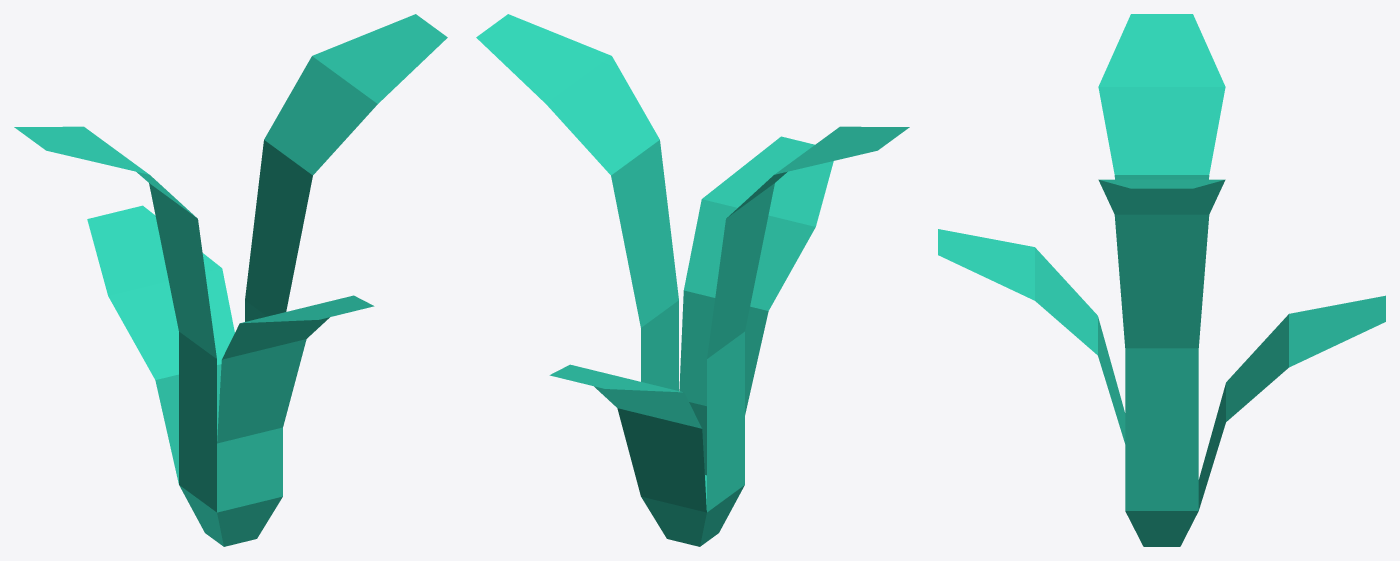
Rendered from crops_leafsStageA.fbx.
The picture shows the model from 3 angles, left to right: view 1: azimuth 30°, elevation 25°; view 2: azimuth 150°, elevation 25°; view 3: azimuth 270°, elevation 25°; orthographic projection. The views are drawn at different scales.
Visible parts, largest first — view 1: crops_leafsStageA; view 2: crops_leafsStageA; view 3: crops_leafsStageA.
Part boxes in pixels (x1,y1,x2,y2): crops_leafsStageA: [14, 14, 447, 546]; crops_leafsStageA: [476, 14, 909, 546]; crops_leafsStageA: [938, 14, 1385, 546].
Bounding box in the file's own units: 3.89 × 4.27 × 3.89.
